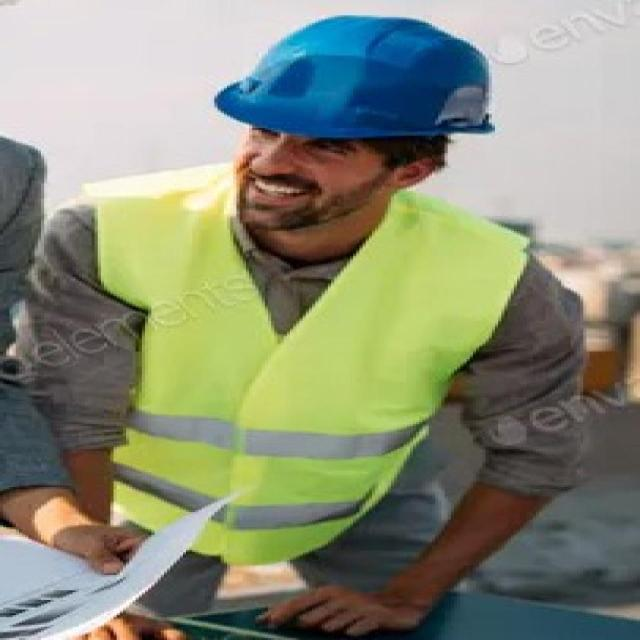Helmet: (192, 2, 580, 231)
Safety Vest: (54, 120, 584, 640)
